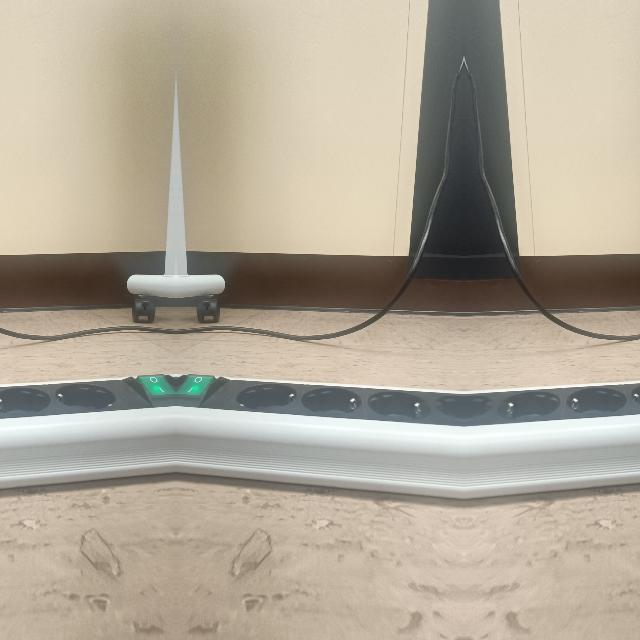obstacle: (176, 363, 464, 502), (463, 363, 640, 502), (0, 363, 173, 502), (177, 215, 235, 332), (115, 215, 173, 332)
